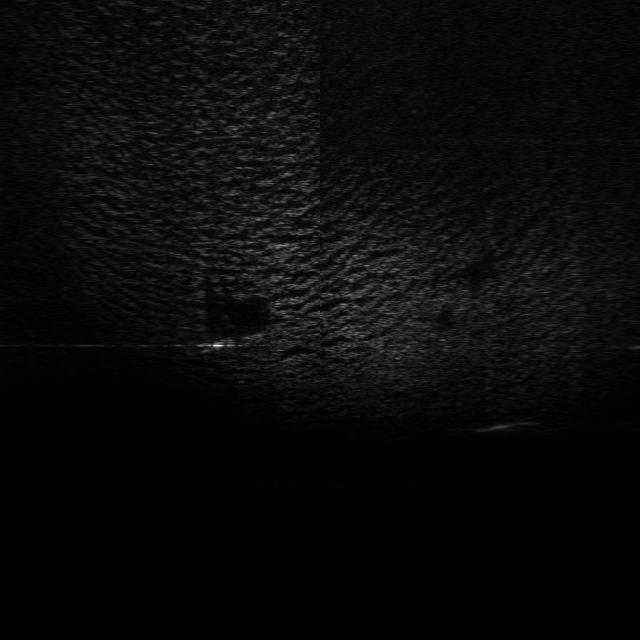plane: (191, 325, 273, 354)
